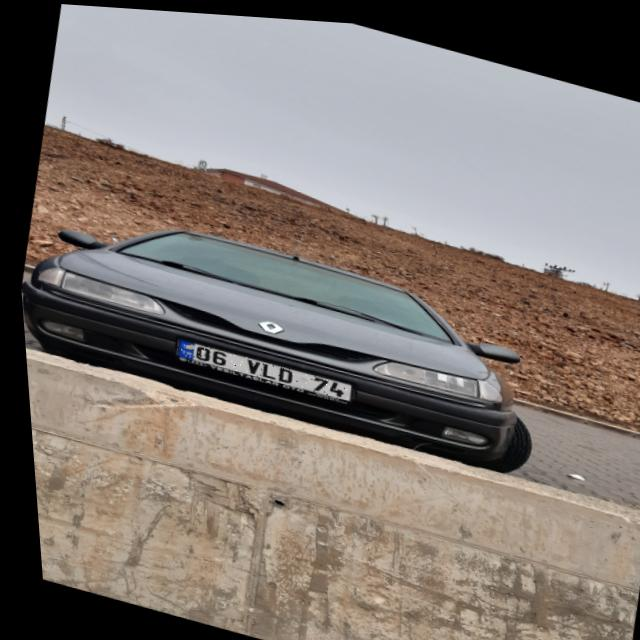license_plate: (168, 335, 347, 398)
